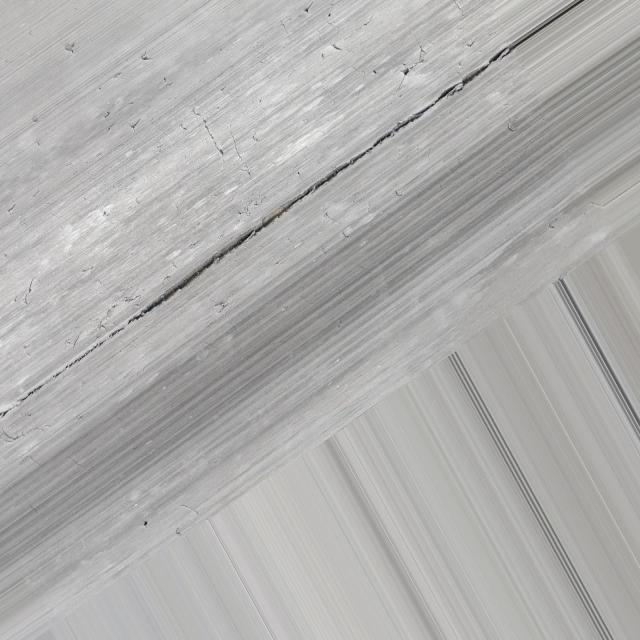Puncture: (136, 51, 152, 63), (302, 2, 314, 15), (139, 518, 151, 530), (402, 64, 412, 78), (129, 120, 139, 132), (370, 66, 378, 76)
Tear: (0, 0, 583, 426)
